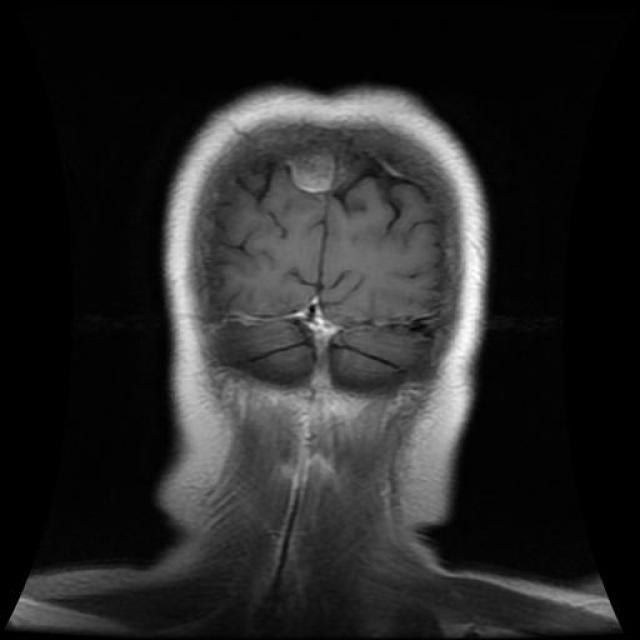meningioma: (290, 154, 334, 195)
